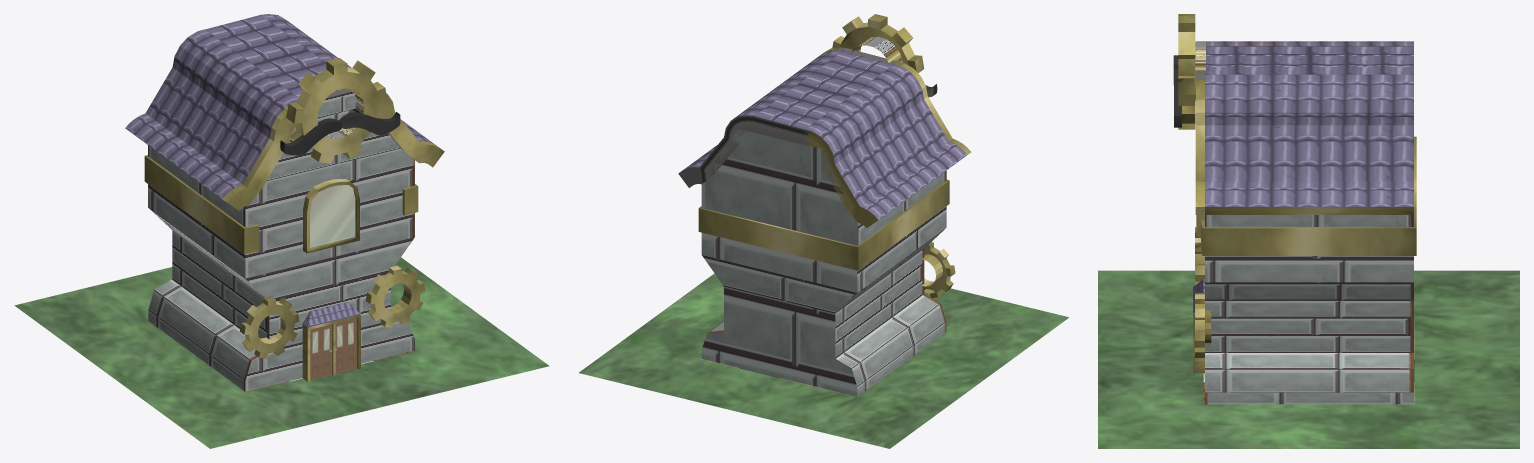
The model's file is Cog Shop.FBX.
3 views of the same model, side by side, from view 1: azimuth 30°, elevation 25°; view 2: azimuth 150°, elevation 25°; view 3: azimuth 270°, elevation 25° (orthographic). The views are drawn at different scales.
Visible parts, largest first — view 1: Box001; view 2: Box001; view 3: Box001.
Boxes of the visible parts, <box> form: Box001: <box>14,14,549,448</box>; Box001: <box>579,14,1068,448</box>; Box001: <box>1098,14,1519,448</box>.
Size of the model in its own units: 78.74 by 70.57 by 78.74.
